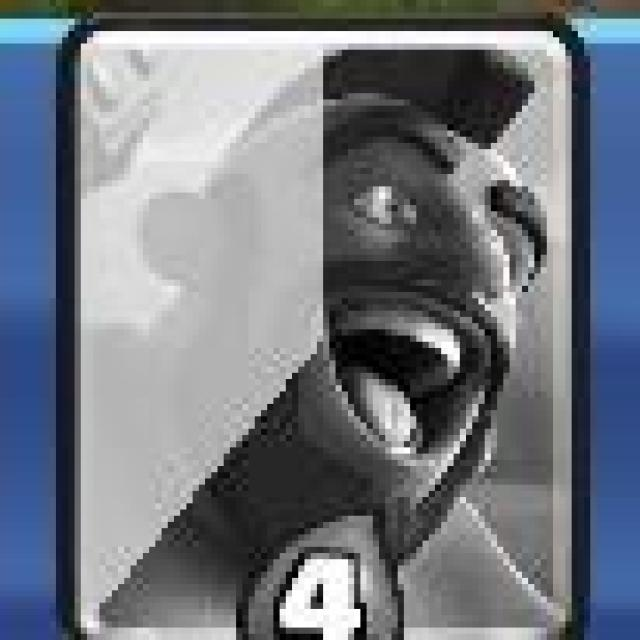Hog_Rider: (55, 12, 589, 640)
